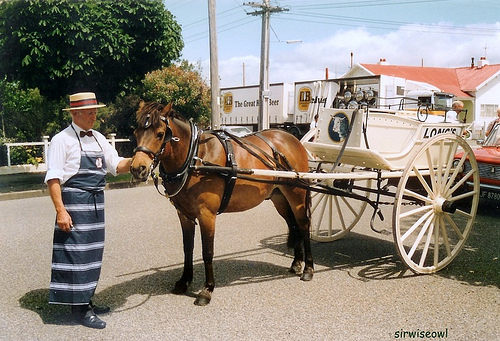horse: (130, 99, 315, 304)
